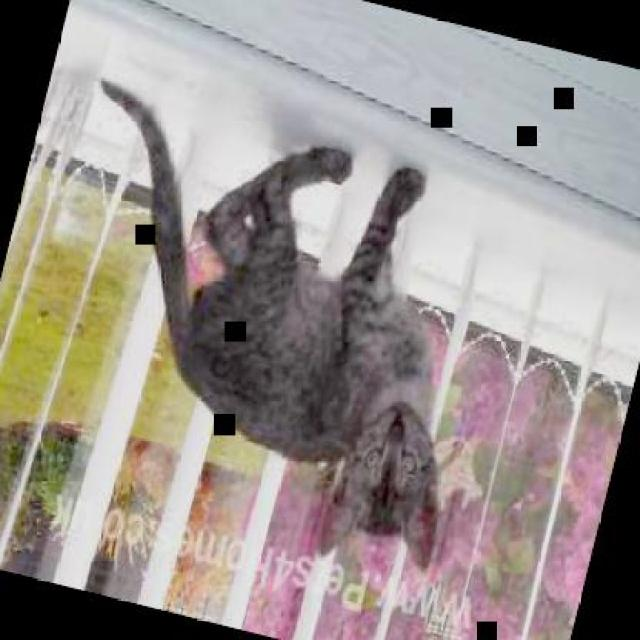cat: (0, 75, 523, 583)
